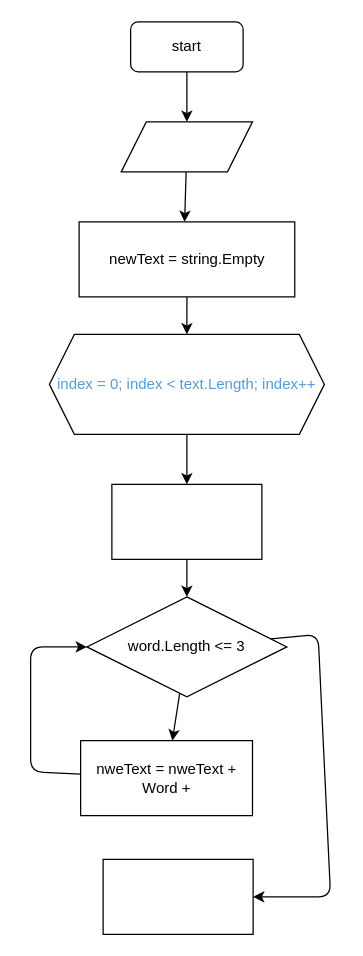
This 363x956 diagram has some shape labels left out. The shapes that lost their labels are listed below. From the top down, each one's box as (x1, y1, x2, y2) in pixels, then its label:
(120, 121, 252, 172): text[]
(111, 483, 262, 559): Word = text[index]
